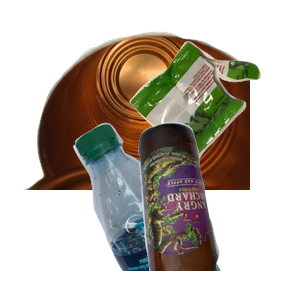glass: (136, 120, 300, 300)
metal: (21, 29, 261, 209)
plastic: (71, 120, 300, 300)
trash: (127, 39, 300, 193)
